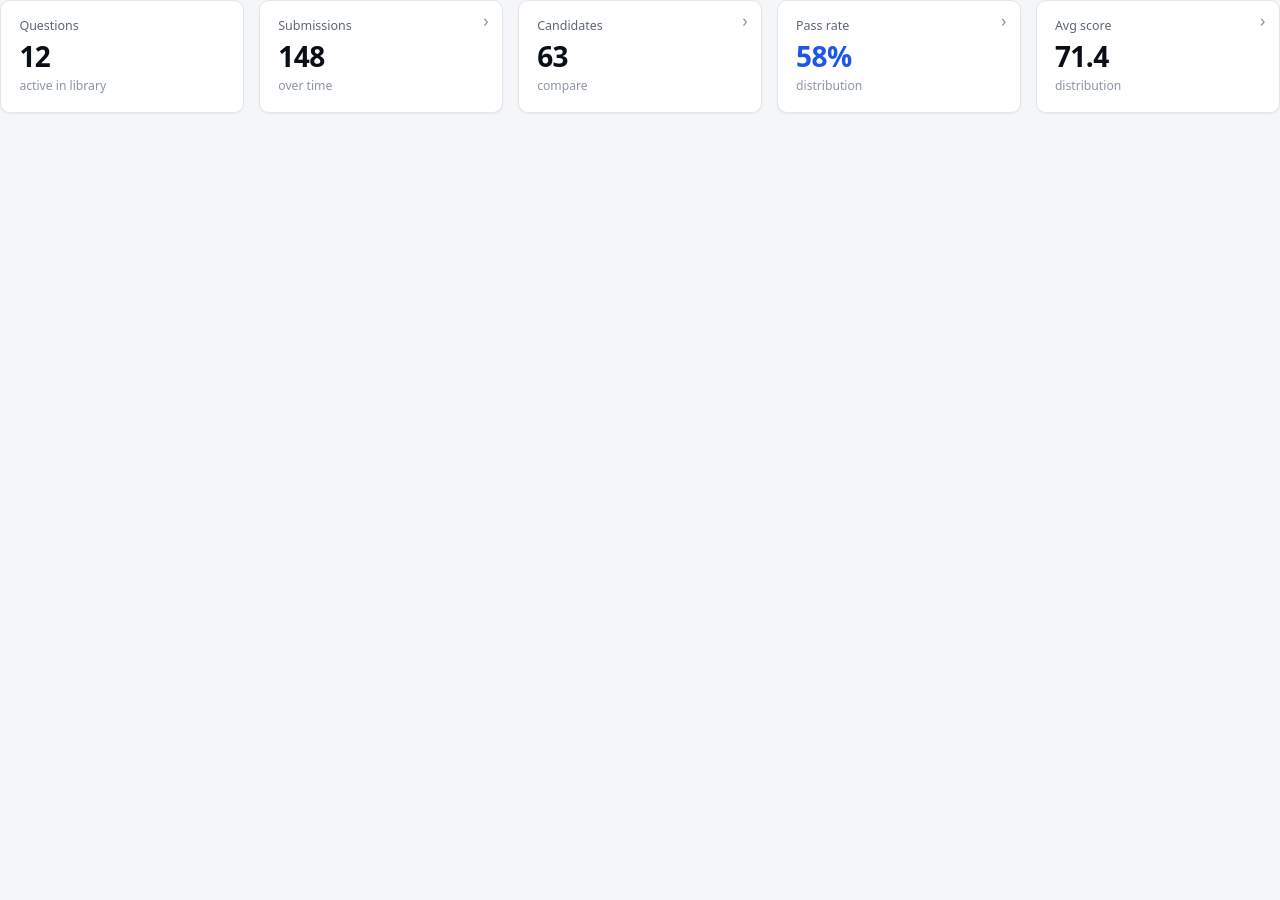
Test: AnalyticsPanel (AR1) › rolls up candidate feedback, and lists only the answers that carry words
Click the button "Candidates 63 compare".
click(640, 56)  # box [518,0,762,112]
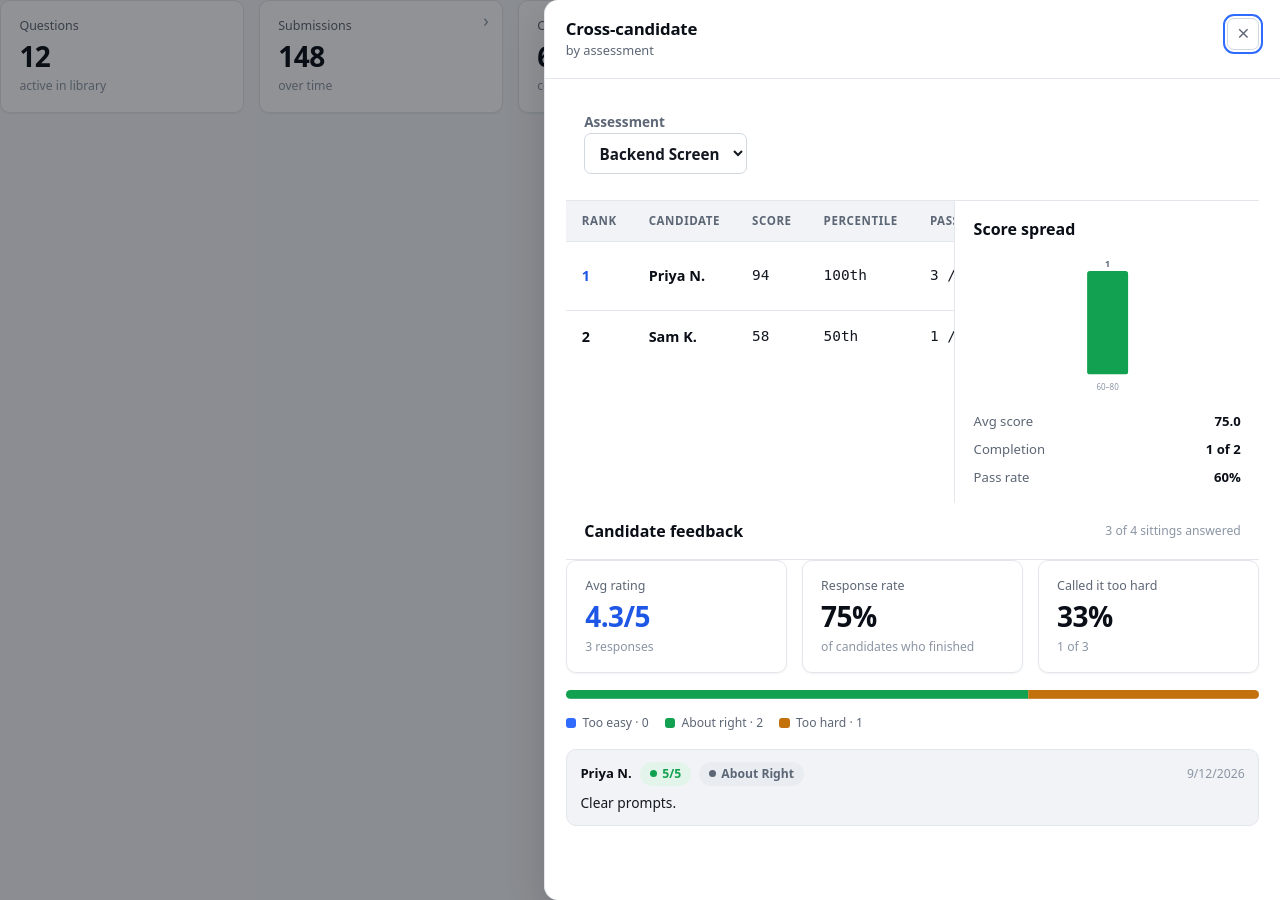
Check: the text "4.3/5" is shown, box [585,597,650,635]
Check: the text "3 responses" is shown, box [585,638,654,655]
Check: the text "3 of 4 sittings answered" is shown, box [1105,522,1241,540]
